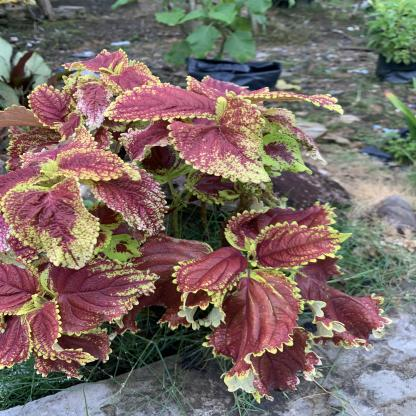Bunga Coleus: (9, 71, 356, 380)
